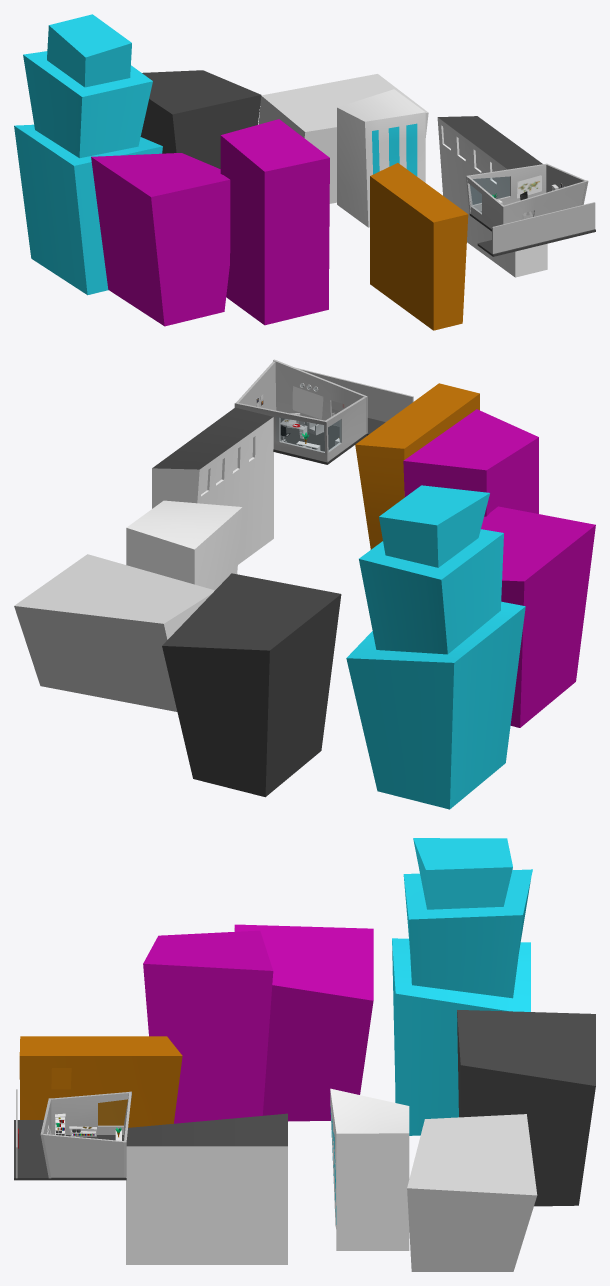
The model's file is office - schra_g_mod_0011.fbx.
The picture shows the model from 3 angles, top to bottom: view 1: azimuth 30°, elevation 25°; view 2: azimuth 150°, elevation 25°; view 3: azimuth 270°, elevation 25°; orthographic projection. The views are drawn at different scales.
Visible parts, largest first — view 1: Haus_3, Haus_3_1, Würfel_1_4, Würfel_4_2, Haus_3_2, Haus_2, Haus_1, Würfel_3_2, Würfel_4, Würfel_2_17, Würfel_1_16, Würfel_4_9 (+2 smaller); view 2: Haus_3, Haus_3_2, Würfel_3_2, Haus_3_1, Haus_1, Würfel_1_4, Haus_2, Würfel_4_2, Würfel_2_17, Würfel_4, Würfel_1_16, Würfel_22 (+3 smaller); view 3: Haus_3, Haus_1, Würfel_1_4, Haus_3_2, Haus_3_1, Würfel_3_2, Würfel_4_2, Haus_2, Würfel_3_13, Würfel_22, Würfel_4_9.
Boxes of the visible parts, bbox=[...] form: Haus_3: bbox=[14, 14, 162, 295]; Haus_3_1: bbox=[91, 153, 230, 326]; Würfel_1_4: bbox=[220, 119, 329, 325]; Würfel_4_2: bbox=[370, 163, 468, 330]; Haus_3_2: bbox=[140, 70, 261, 168]; Haus_2: bbox=[337, 89, 425, 227]; Haus_1: bbox=[437, 116, 547, 277]; Würfel_3_2: bbox=[258, 74, 428, 203]; Würfel_4: bbox=[492, 202, 595, 253]; Würfel_2_17: bbox=[502, 180, 588, 224]; Würfel_1_16: bbox=[466, 163, 547, 213]; Würfel_4_9: bbox=[467, 175, 503, 228]; Haus_3: bbox=[346, 485, 525, 809]; Haus_3_2: bbox=[162, 573, 341, 797]; Würfel_3_2: bbox=[14, 554, 214, 711]; Haus_3_1: bbox=[481, 506, 595, 727]; Haus_1: bbox=[152, 407, 273, 564]; Würfel_1_4: bbox=[403, 409, 538, 516]; Haus_2: bbox=[126, 500, 242, 590]; Würfel_4_2: bbox=[355, 383, 479, 549]; Würfel_2_17: bbox=[273, 359, 367, 433]; Würfel_4: bbox=[296, 368, 413, 421]; Würfel_1_16: bbox=[234, 402, 328, 462]; Würfel_22: bbox=[273, 409, 385, 464]; Haus_3: bbox=[392, 838, 532, 1135]; Haus_1: bbox=[126, 1113, 287, 1264]; Würfel_1_4: bbox=[143, 930, 273, 1123]; Haus_3_2: bbox=[457, 1010, 595, 1206]; Haus_3_1: bbox=[234, 924, 373, 1121]; Würfel_3_2: bbox=[407, 1114, 537, 1271]; Würfel_4_2: bbox=[19, 1036, 182, 1127]; Haus_2: bbox=[330, 1088, 409, 1250]; Würfel_3_13: bbox=[43, 1134, 124, 1177]; Würfel_22: bbox=[14, 1120, 126, 1180]; Würfel_4_9: bbox=[51, 1092, 130, 1134].
Size of the model in its own units: 3770 by 2285 by 4477.
Materials: 29 (8 with a texture image).
